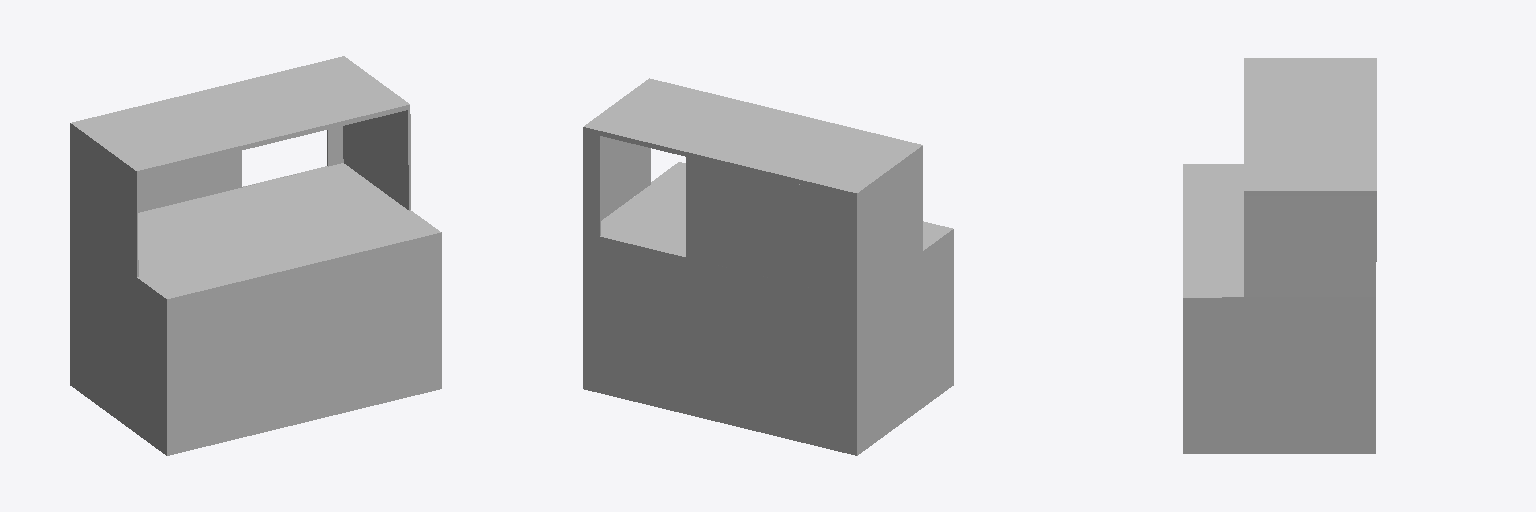
File: Empty house 02.obj
The picture shows the model from 3 angles: view 1: azimuth 30°, elevation 25°; view 2: azimuth 150°, elevation 25°; view 3: azimuth 270°, elevation 25°; orthographic projection.
Parts seen in each view (by area): view 1: Empty_house_02; view 2: Empty_house_02; view 3: Empty_house_02.
Part boxes in pixels (x1,y1,x2,y2): Empty_house_02: (70, 56, 441, 455); Empty_house_02: (583, 78, 953, 455); Empty_house_02: (1183, 58, 1376, 453).
Size of the model in its own units: 413 by 377 by 252.